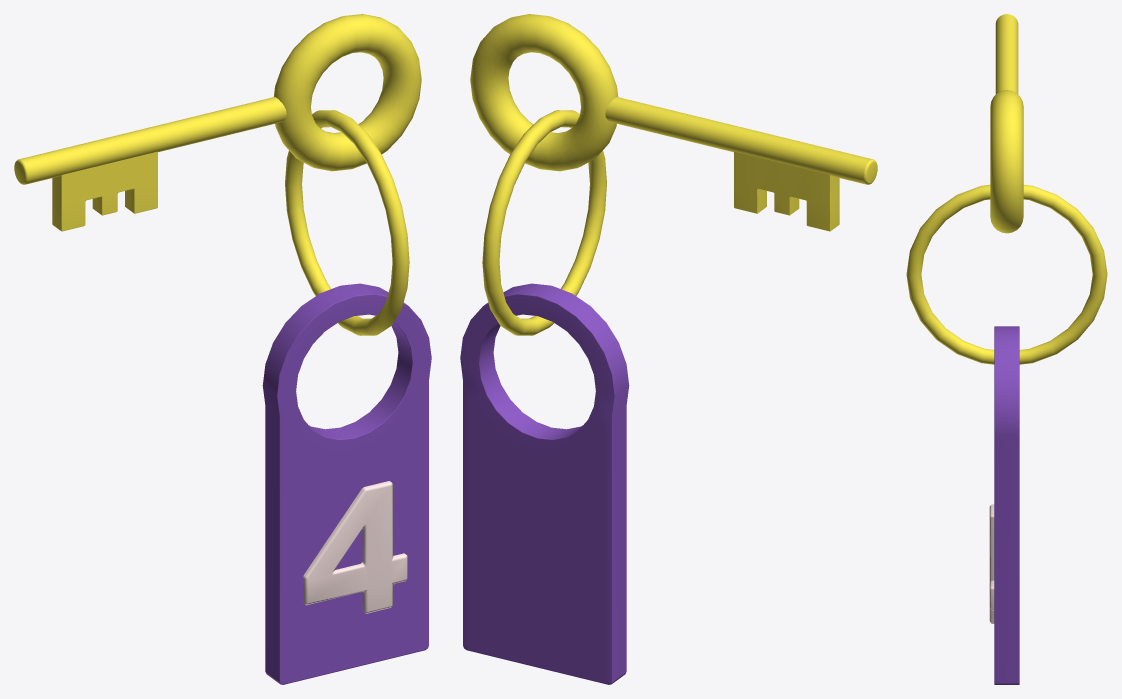
The model's file is Public_7_Key_Number_4.glb.
3 renders of one model, left to right at view 1: azimuth 30°, elevation 25°; view 2: azimuth 150°, elevation 25°; view 3: azimuth 270°, elevation 25°, orthographic. The views are drawn at different scales.
Parts seen in each view (by area): view 1: Public_7_Key_Number_4; view 2: Public_7_Key_Number_4; view 3: Public_7_Key_Number_4.
Part boxes in pixels (box(x1,y1,x2,y2)): Public_7_Key_Number_4: box(14, 14, 431, 684); Public_7_Key_Number_4: box(460, 14, 877, 684); Public_7_Key_Number_4: box(906, 14, 1107, 684).
Size of the model in its own units: 1.61 by 2.45 by 0.8011.
Materials: 1 (1 with a texture image).
